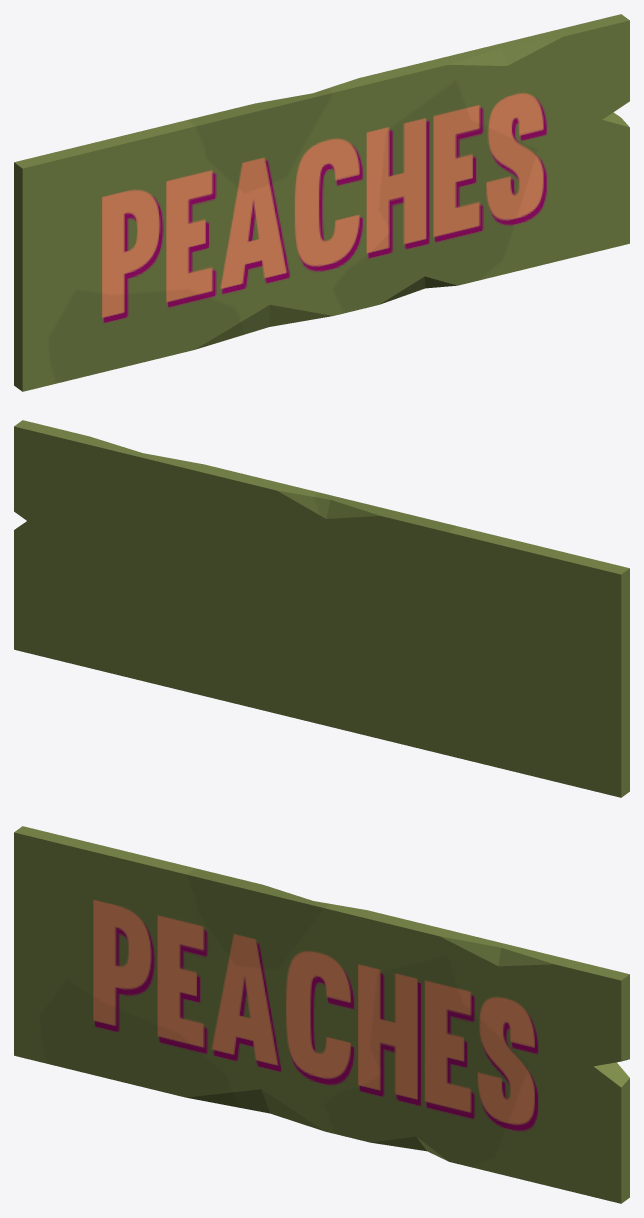
Rendered from SM_Prop_Sign_Peaches_01.fbx.
The picture shows the model from 3 angles, top to bottom: view 1: azimuth 30°, elevation 25°; view 2: azimuth 150°, elevation 25°; view 3: azimuth 330°, elevation 25°; orthographic projection.
Visible parts, largest first — view 1: SM_Prop_Sign_Peaches_01; view 2: SM_Prop_Sign_Peaches_01; view 3: SM_Prop_Sign_Peaches_01.
Part boxes in pixels (bbox=[...]): SM_Prop_Sign_Peaches_01: bbox=[14, 14, 629, 391]; SM_Prop_Sign_Peaches_01: bbox=[14, 420, 629, 797]; SM_Prop_Sign_Peaches_01: bbox=[14, 826, 629, 1203].
Size of the model in its own units: 117 by 41.02 by 2.89.
